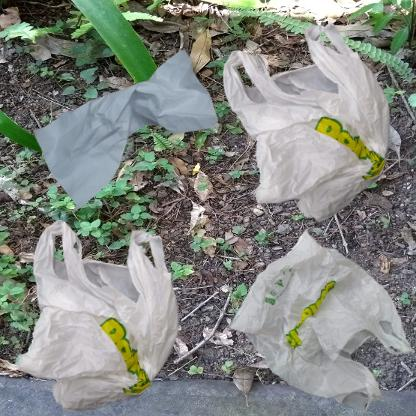bolsa: (213, 10, 416, 256), (213, 213, 416, 416), (10, 213, 200, 416)
papel: (10, 10, 255, 269)
